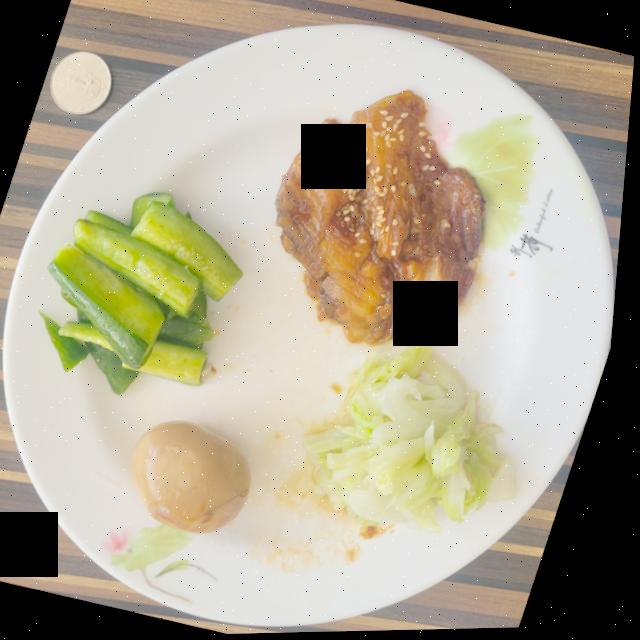Kabayaki sea bream fillet: (278, 92, 487, 347)
cabbage: (310, 344, 521, 534)
coin: (50, 51, 111, 115)
cucumber: (47, 193, 246, 395)
soy egg: (138, 421, 258, 534)
